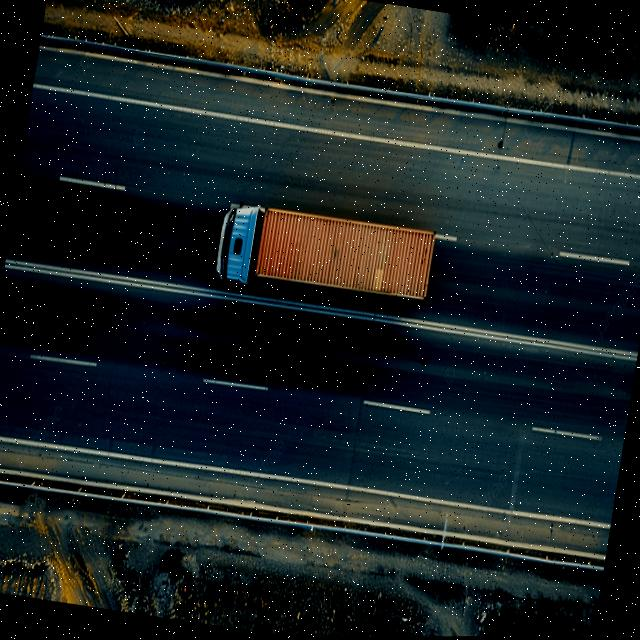truck: (215, 198, 437, 309)
